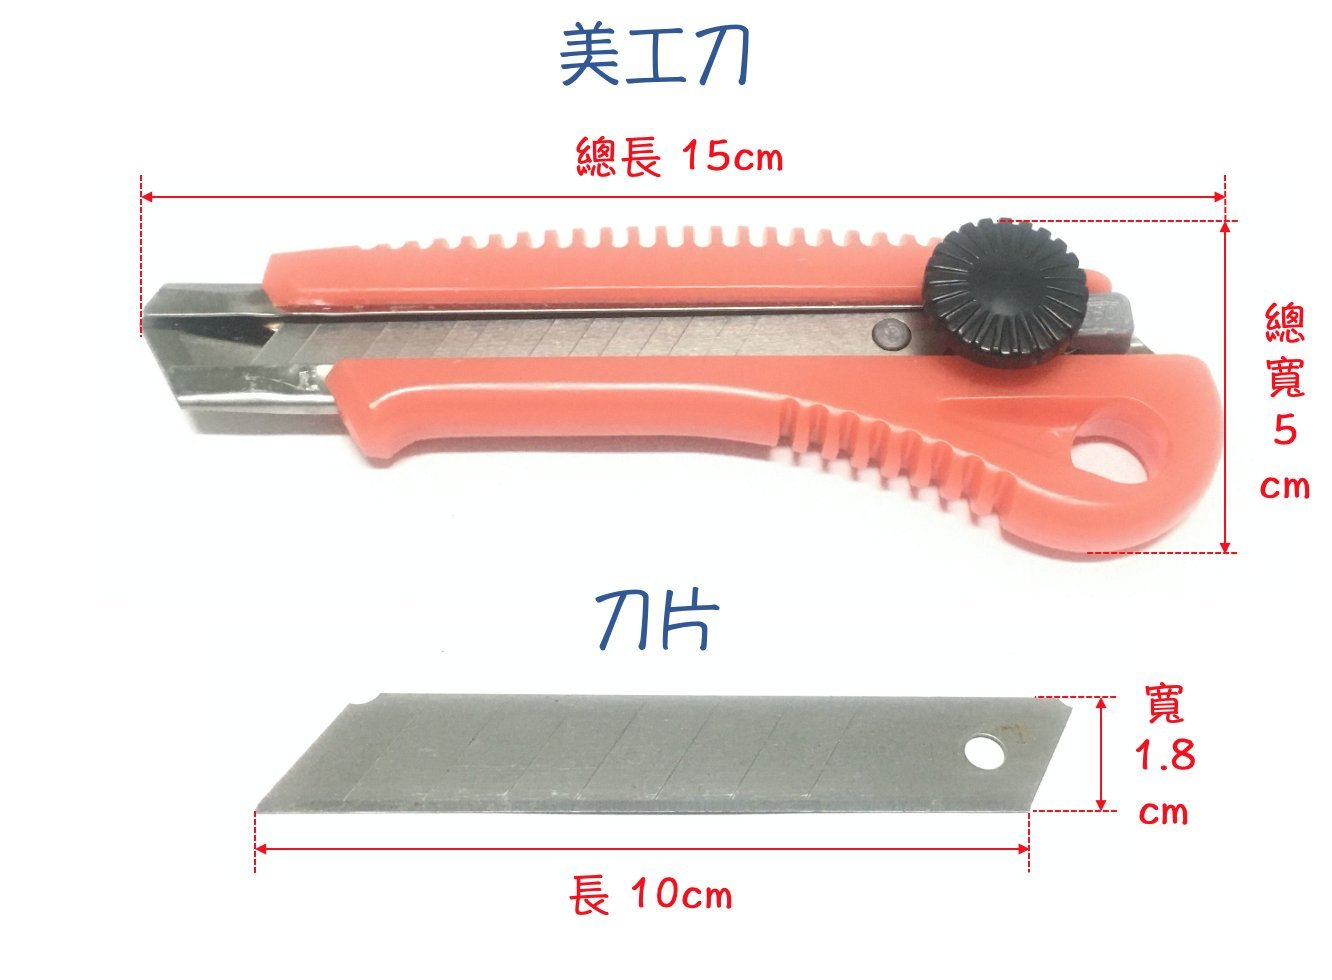cutter: (140, 220, 1222, 556), (252, 690, 1069, 816)
